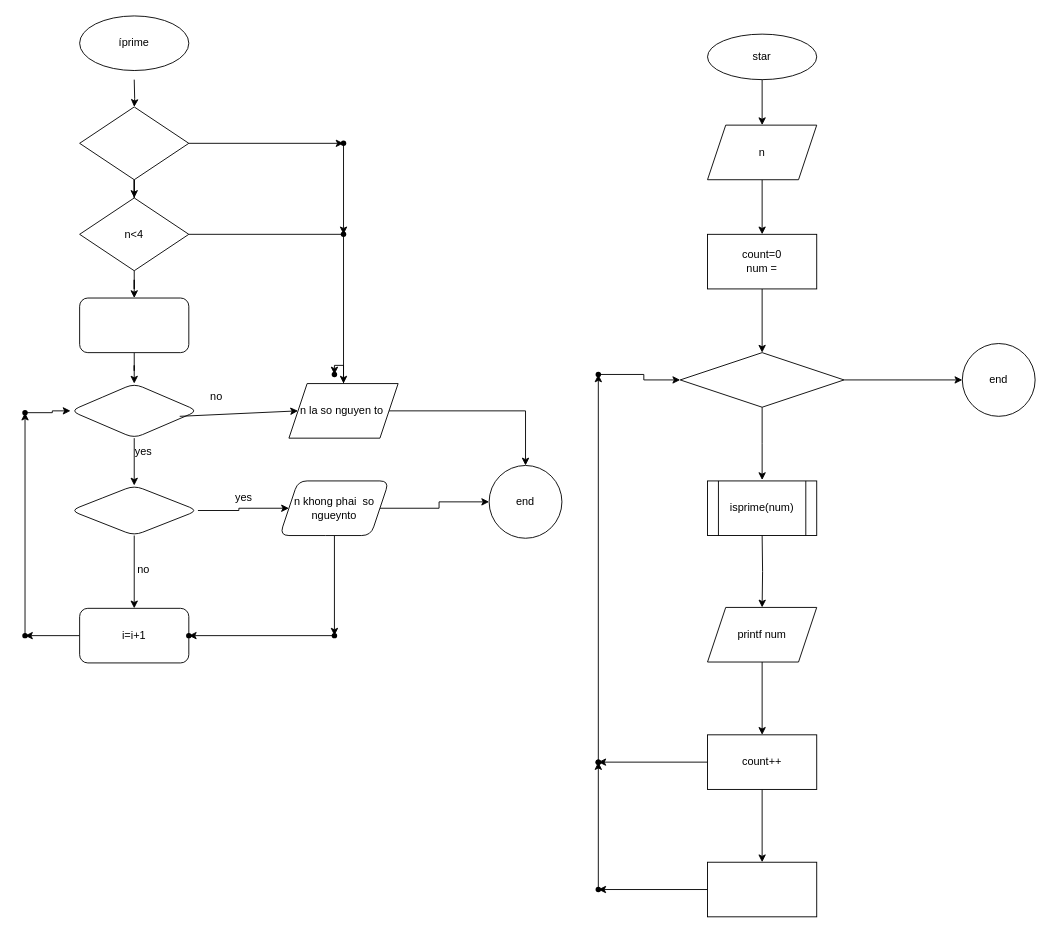
This 1051x933 diagram has some shape labels left out. Each missing label, with the centre of its shape:
count<n: pixel 761 379
i<n: pixel 134 410
i=1: pixel 134 325
n%i==0: pixel 134 510
n=1: pixel 134 143
num++: pixel 762 889
